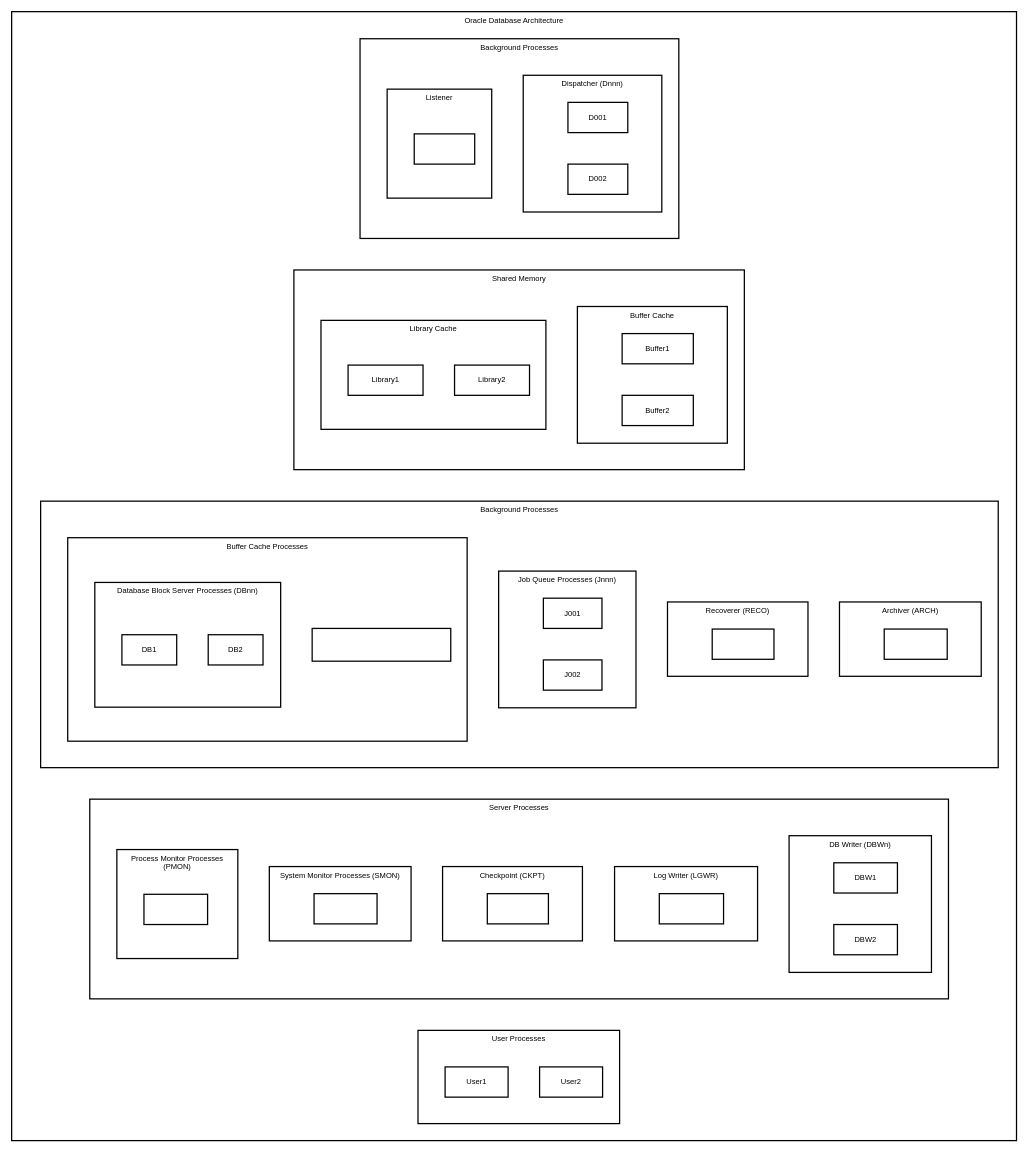
Image size: 1028x1152. Some labels were removed from this diagram. Here are the shapes that lost their labels. From the top down, the centre of each, then its label:
the point at 444,148: LSNR
the point at 381,644: Database Writer Processes (DBWn)
the point at 742,644: RECO
the point at 915,644: ARCH
the point at 175,909: PMON
the point at 345,908: SMON
the point at 517,908: CKPT
the point at 691,908: LGWR
